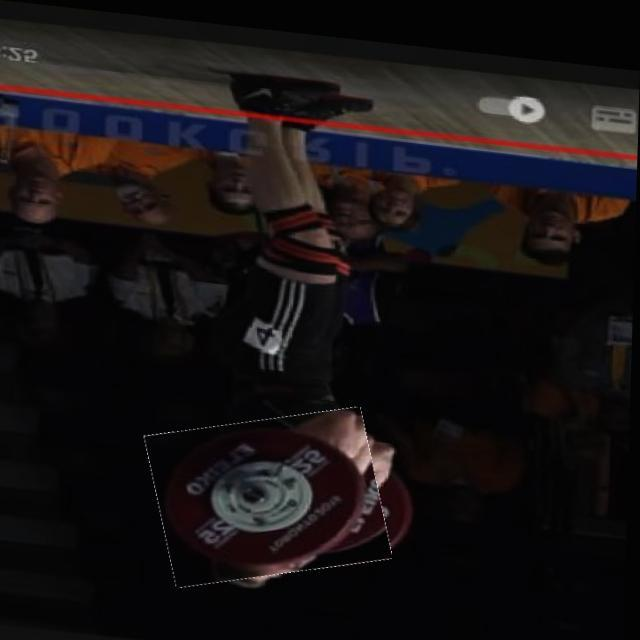barbell: (151, 393, 392, 590)
